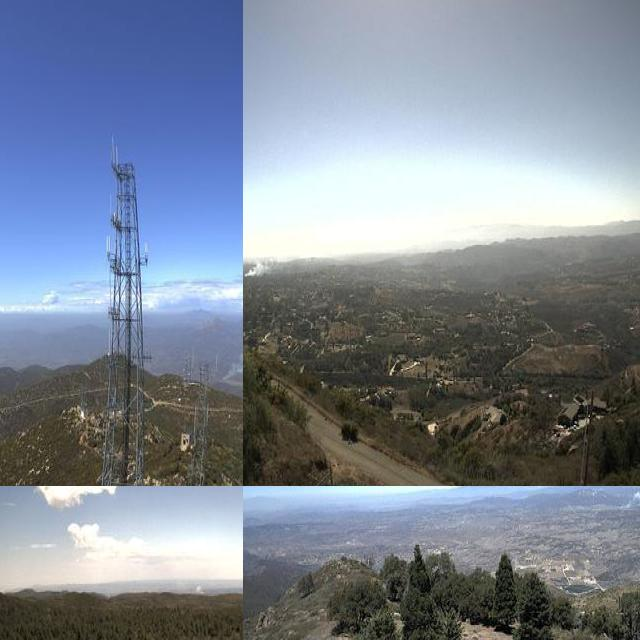smoke: (215, 319, 243, 383), (243, 247, 283, 275), (610, 486, 640, 510), (188, 574, 208, 594)
